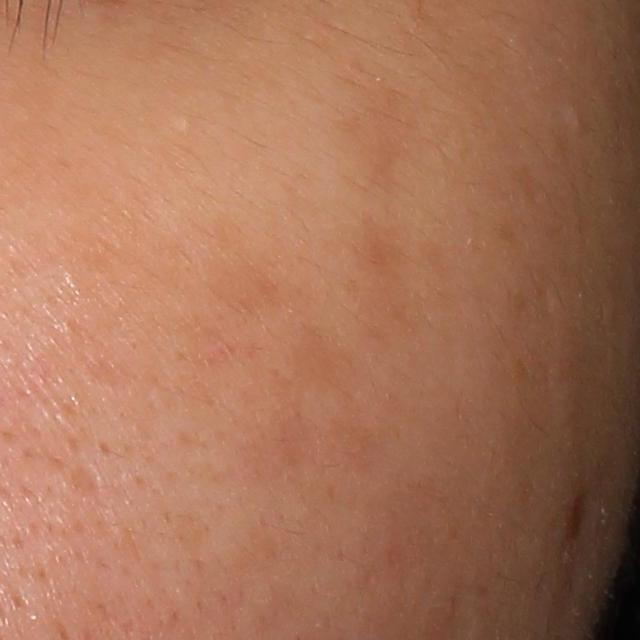atrophic_scar: (69, 467, 104, 501)
comedo: (175, 116, 193, 133), (571, 115, 585, 132)
